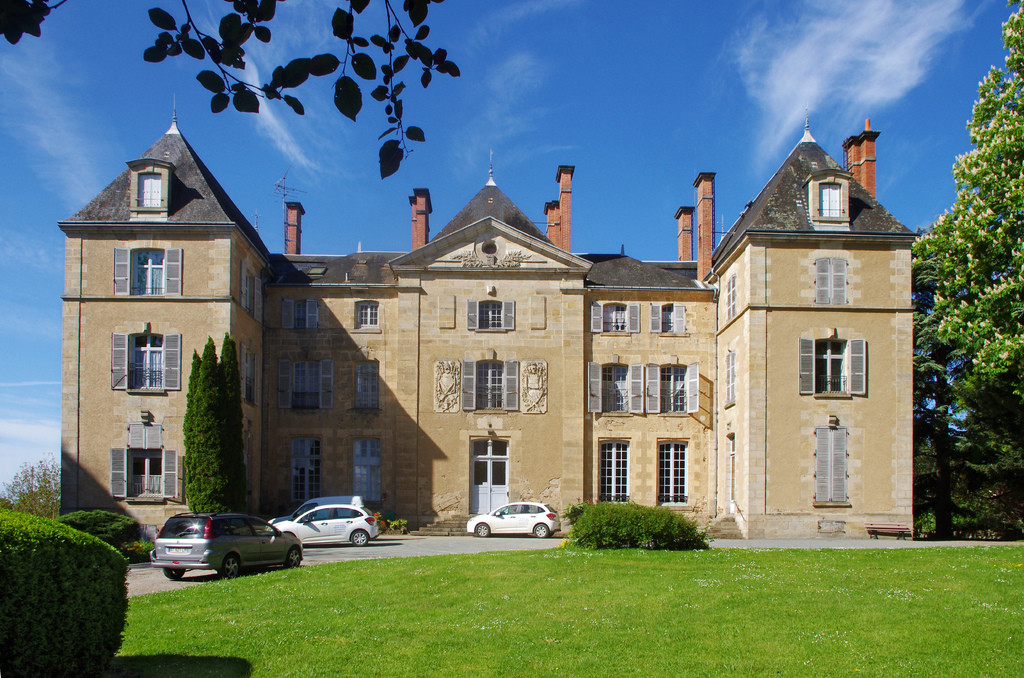Car: (149, 510, 302, 579), (268, 505, 379, 546), (465, 500, 560, 539)
